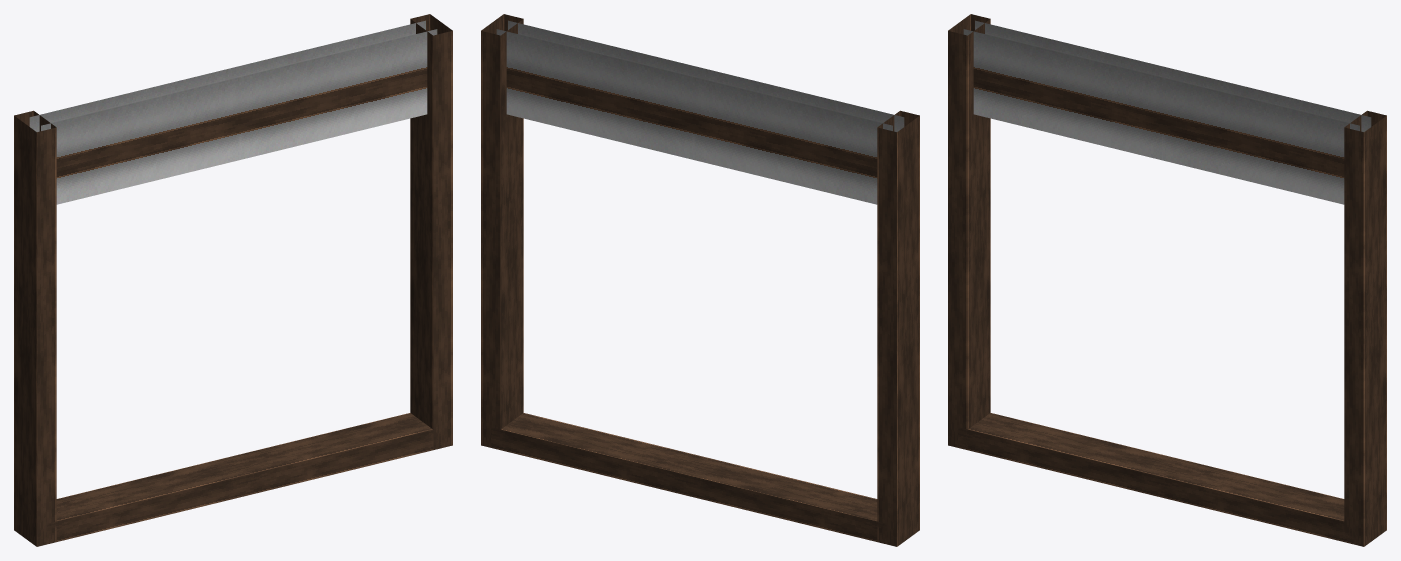
Rendered from house_passage_4x4.glb.
The picture shows the model from 3 angles, left to right: view 1: azimuth 30°, elevation 25°; view 2: azimuth 150°, elevation 25°; view 3: azimuth 330°, elevation 25°; orthographic projection.
Parts seen in each view (by area): view 1: house_passage_4x4; view 2: house_passage_4x4; view 3: house_passage_4x4.
Boxes of the visible parts, left/top/right/bottom form: house_passage_4x4: left=14, top=14, right=452, bottom=546; house_passage_4x4: left=481, top=14, right=919, bottom=546; house_passage_4x4: left=948, top=14, right=1386, bottom=546.
Size of the model in its own units: 4.2 by 4 by 0.4.
2 materials, 2 textured.
